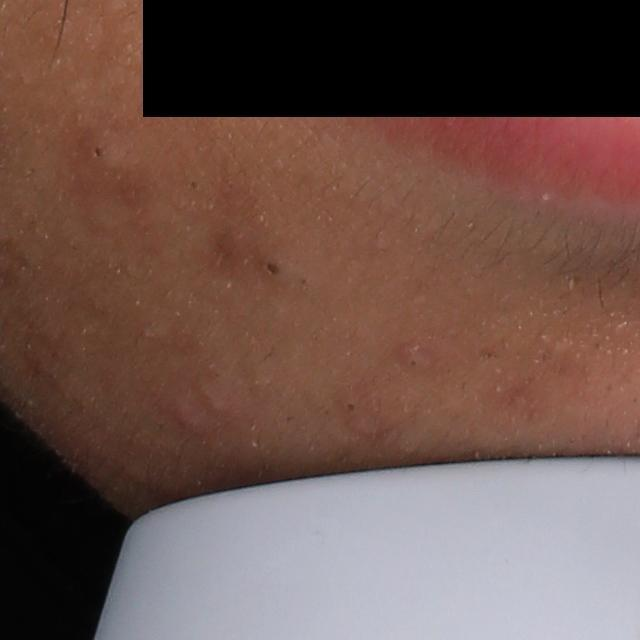comedo: (76, 123, 129, 177), (255, 245, 297, 284), (338, 393, 360, 416), (403, 354, 426, 373)
papule: (172, 405, 208, 432)
